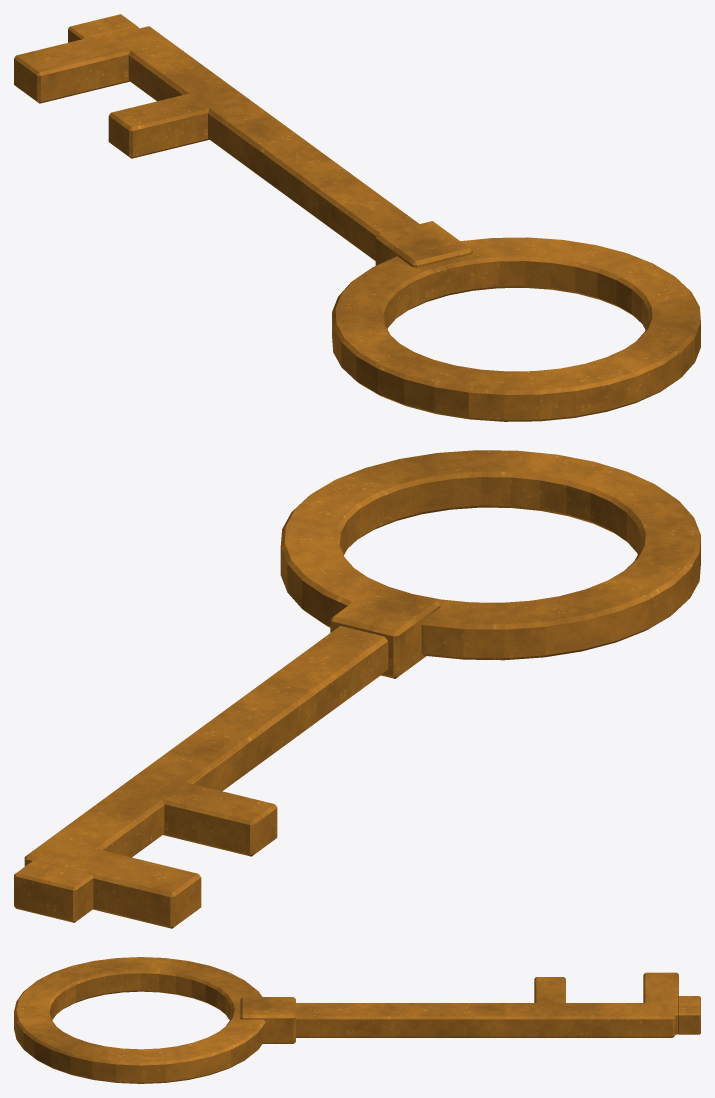
Rendered from GoldKey.fbx.
3 views of the same model, one above another, from view 1: azimuth 30°, elevation 25°; view 2: azimuth 150°, elevation 25°; view 3: azimuth 270°, elevation 25° (orthographic). The views are drawn at different scales.
Parts seen in each view (by area): view 1: GoldKey_00_Faceted circular key bow; view 2: GoldKey_00_Faceted circular key bow; view 3: GoldKey_00_Faceted circular key bow.
Part boxes in pixels (x1,y1,x2,y2): GoldKey_00_Faceted circular key bow: [14, 14, 700, 421]; GoldKey_00_Faceted circular key bow: [14, 450, 700, 928]; GoldKey_00_Faceted circular key bow: [14, 957, 700, 1083].
Bounding box in the file's own units: 6.4 × 0.8 × 17.3.
